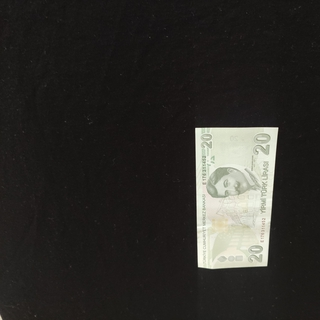20TLBack: (194, 126, 279, 270)
